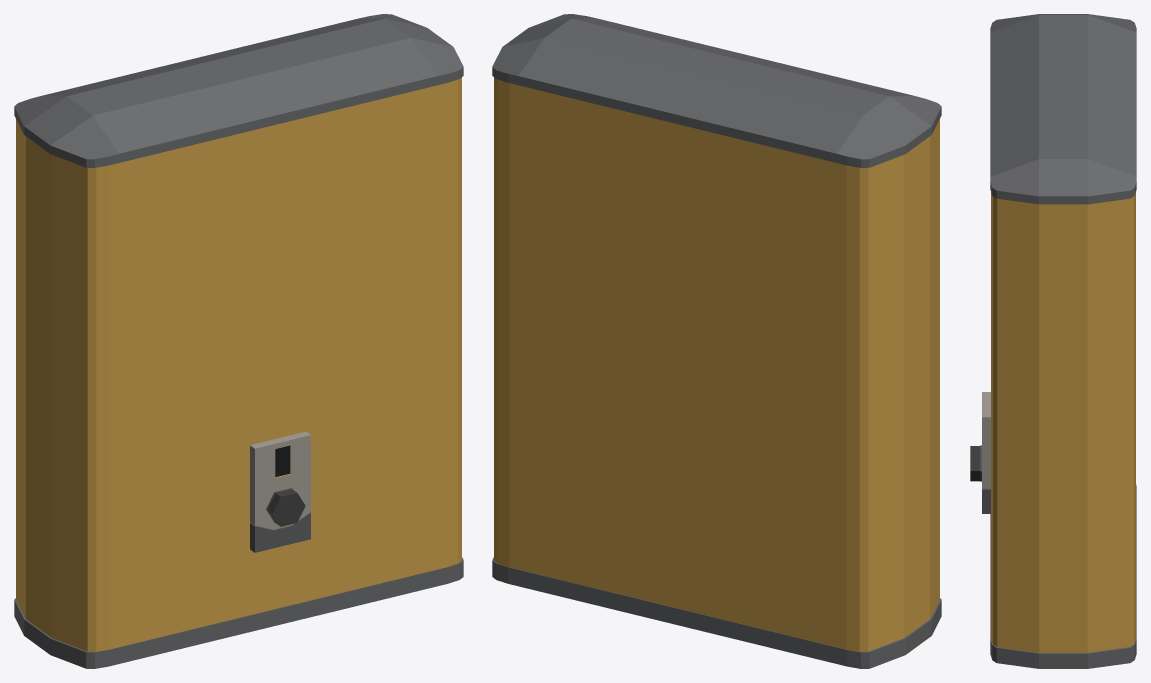
File: waterheaterlarge_01_D.gltf
3 views of the same model, side by side, from view 1: azimuth 30°, elevation 25°; view 2: azimuth 150°, elevation 25°; view 3: azimuth 270°, elevation 25° (orthographic). The views are drawn at different scales.
Parts seen in each view (by area): view 1: waterheaterlarge_01_D, switchforwaterheaterlarge_01_D; view 2: waterheaterlarge_01_D; view 3: waterheaterlarge_01_D, switchforwaterheaterlarge_01_D.
Boxes of the visible parts, x1,y1,x2,y2 form: waterheaterlarge_01_D: (14,14,463,668); switchforwaterheaterlarge_01_D: (266,488,305,526); waterheaterlarge_01_D: (492,14,941,668); waterheaterlarge_01_D: (982,14,1136,668); switchforwaterheaterlarge_01_D: (970,445,981,481).
Bounding box in the file's own units: 0.946 × 1.2 × 0.3638.
1 material, 1 textured.
